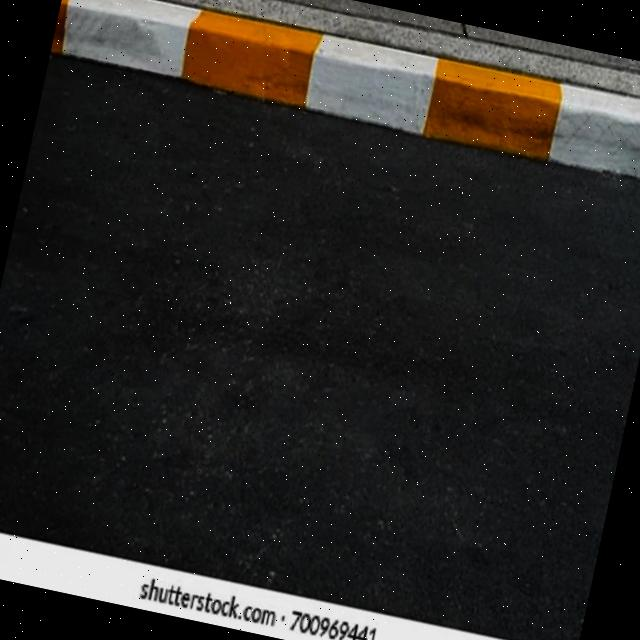curb: (52, 1, 640, 195)
